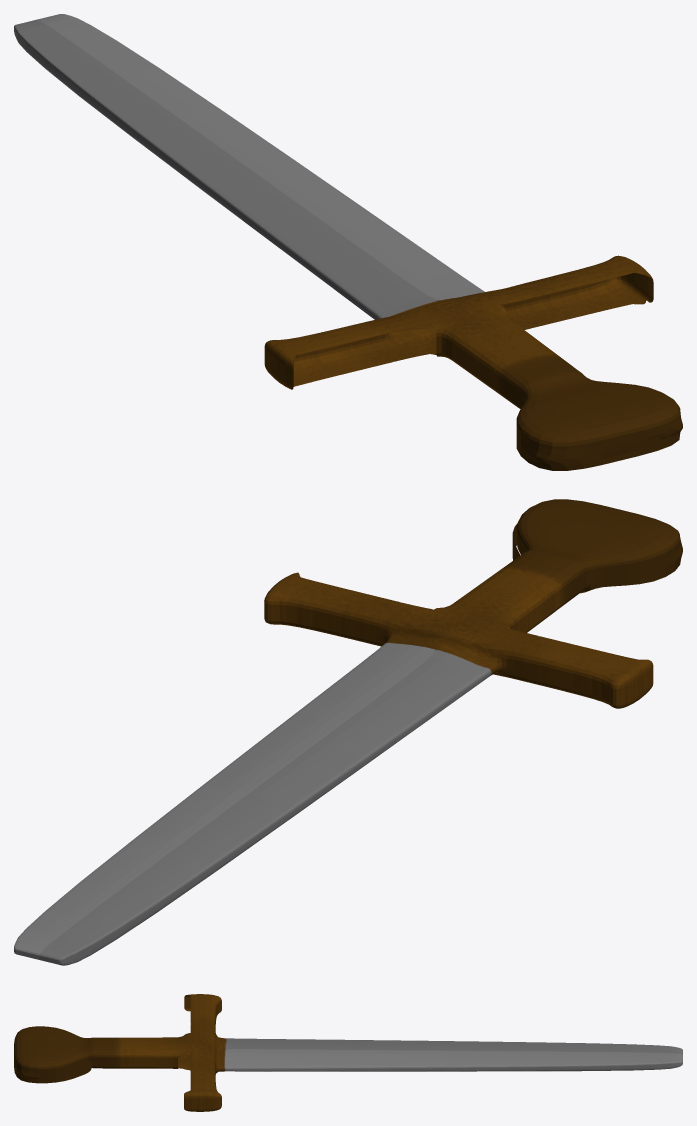
Rendered from Model_Schwert.fbx.
3 views of the same model, one above another, from view 1: azimuth 30°, elevation 25°; view 2: azimuth 150°, elevation 25°; view 3: azimuth 270°, elevation 25° (orthographic). The views are drawn at different scales.
Parts seen in each view (by area): view 1: Plane; view 2: Plane; view 3: Plane.
Boxes of the visible parts, x1,y1,x2,y2 form: Plane: (14,14,682,470); Plane: (14,499,682,965); Plane: (14,994,682,1111).
Size of the model in its own units: 33.96 by 3.08 by 94.56.
